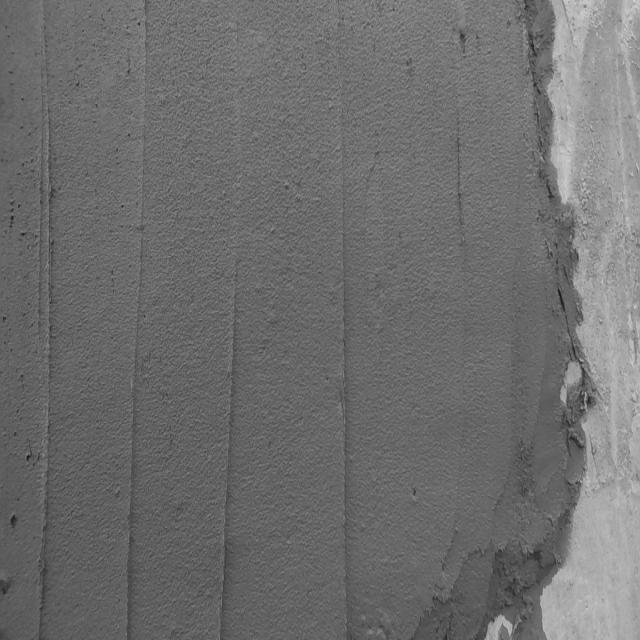trowels marks: (34, 7, 54, 640), (122, 12, 142, 640), (335, 121, 359, 640), (217, 242, 236, 640)
